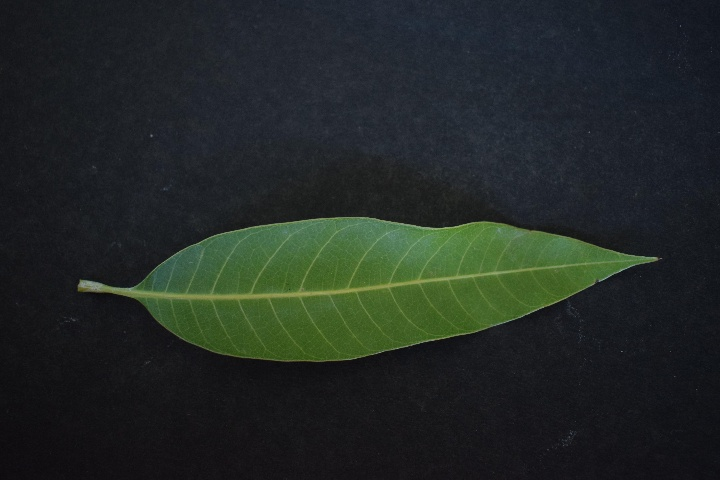healthy: (156, 218, 620, 359)
